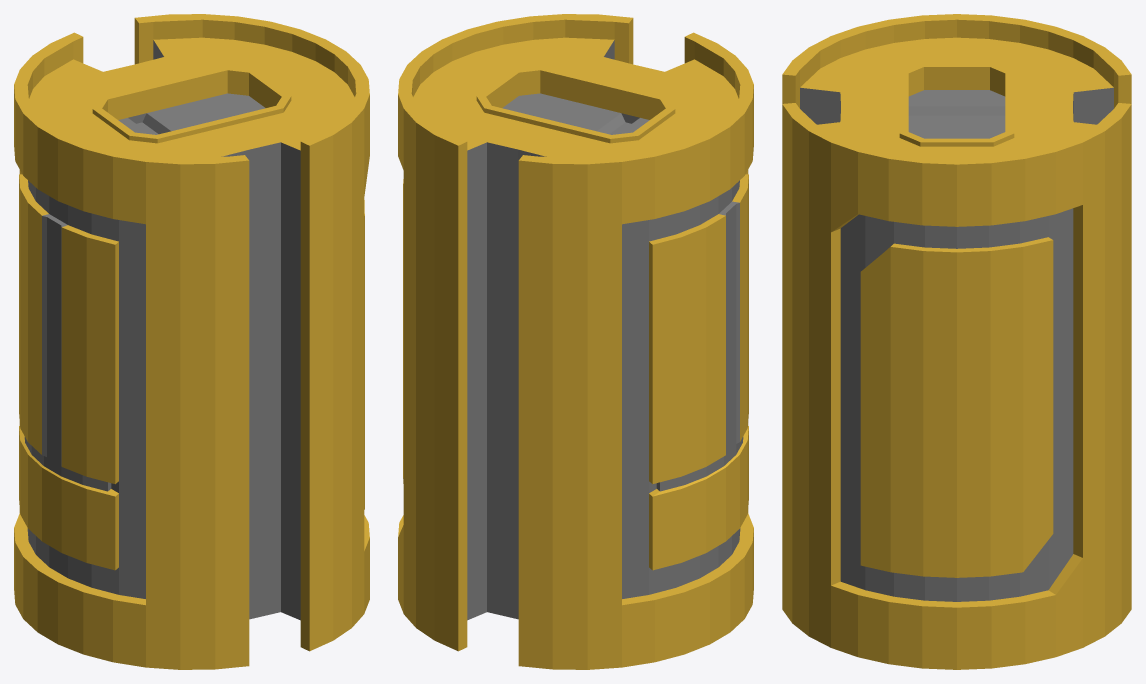
Rendered from RecoveryObjective.fbx.
The picture shows the model from 3 angles, left to right: view 1: azimuth 30°, elevation 25°; view 2: azimuth 150°, elevation 25°; view 3: azimuth 270°, elevation 25°; orthographic projection.
Parts seen in each view (by area): view 1: Circle; view 2: Circle; view 3: Circle.
Boxes of the visible parts, x1=… form: Circle: x1=14, y1=14, x2=369, y2=669; Circle: x1=398, y1=14, x2=753, y2=669; Circle: x1=782, y1=14, x2=1131, y2=669.
Size of the model in its own units: 200 by 313 by 196.
